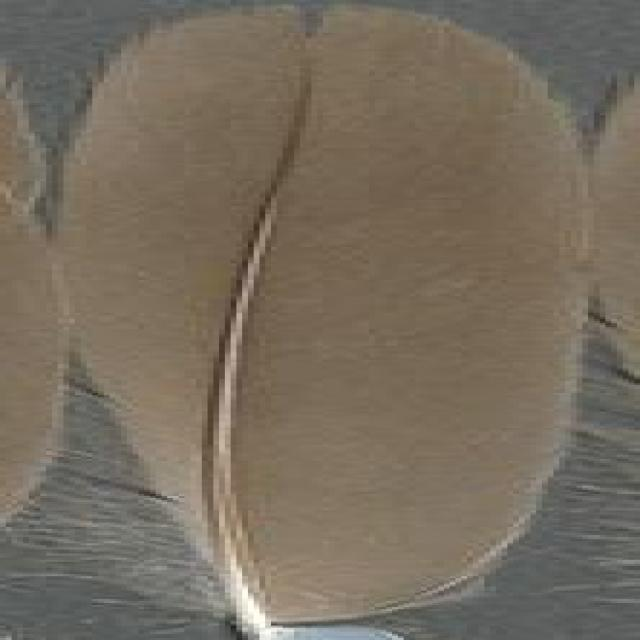feather: (84, 5, 581, 640)
